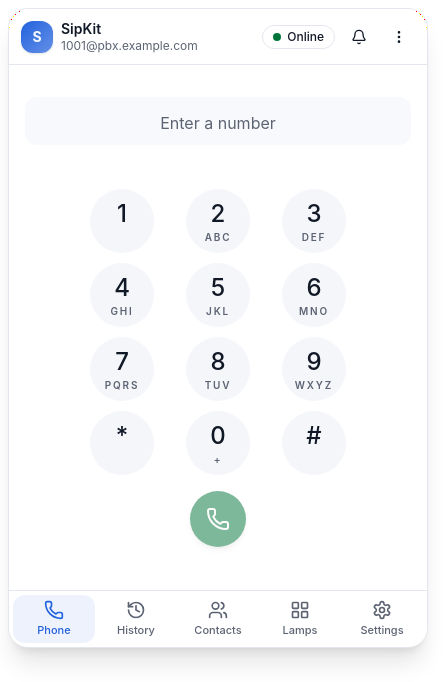
Test: BLF panel and presence lamps › dials a tile and shows busy state in the contacts list
Later steps or results of the test are not shown.
Click the tab "Contacts": [218, 619] box [177,595,259,643]
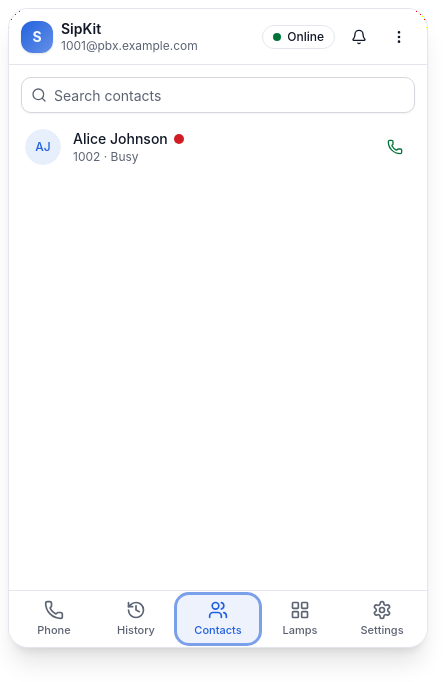
Result: the text "1002 · Busy" is shown at [73,149,139,164]
